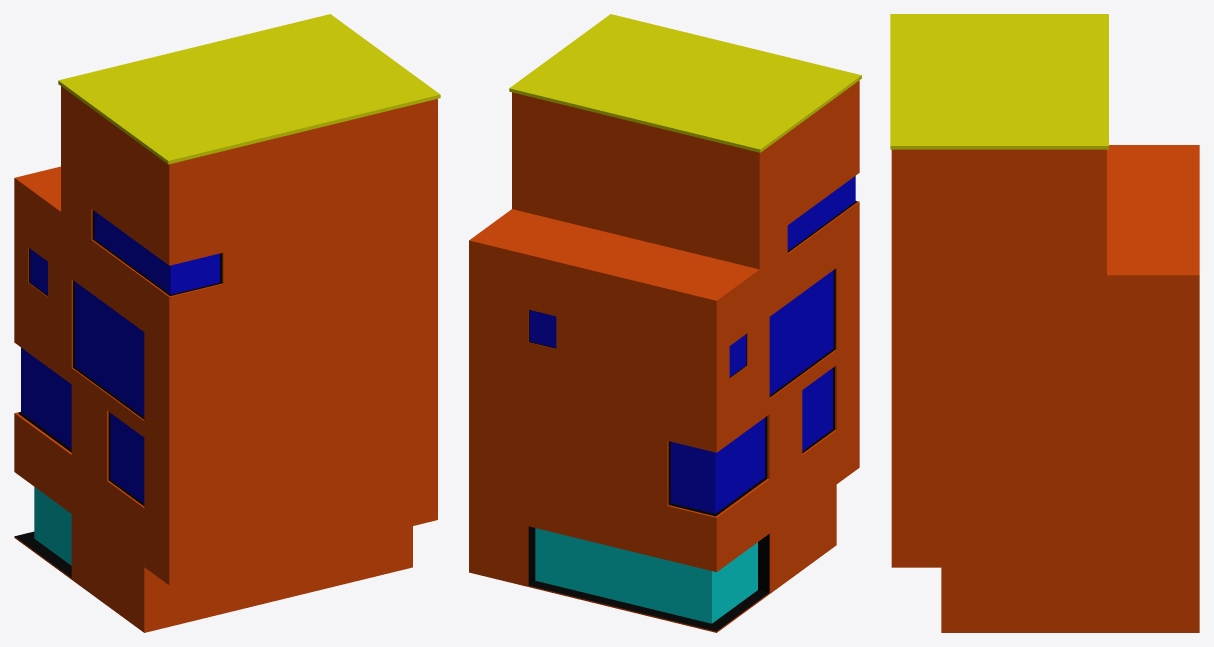
The model's file is Building_22.fbx.
3 views of the same model, side by side, from view 1: azimuth 30°, elevation 25°; view 2: azimuth 150°, elevation 25°; view 3: azimuth 270°, elevation 25° (orthographic). The views are drawn at different scales.
Parts seen in each view (by area): view 1: Building_22; view 2: Building_22; view 3: Building_22.
Part boxes in pixels (left/top/right/bottom): Building_22: left=14, top=14, right=440, bottom=632; Building_22: left=469, top=14, right=861, bottom=632; Building_22: left=890, top=14, right=1199, bottom=632.
Size of the model in its own units: 264 by 456 by 262.
